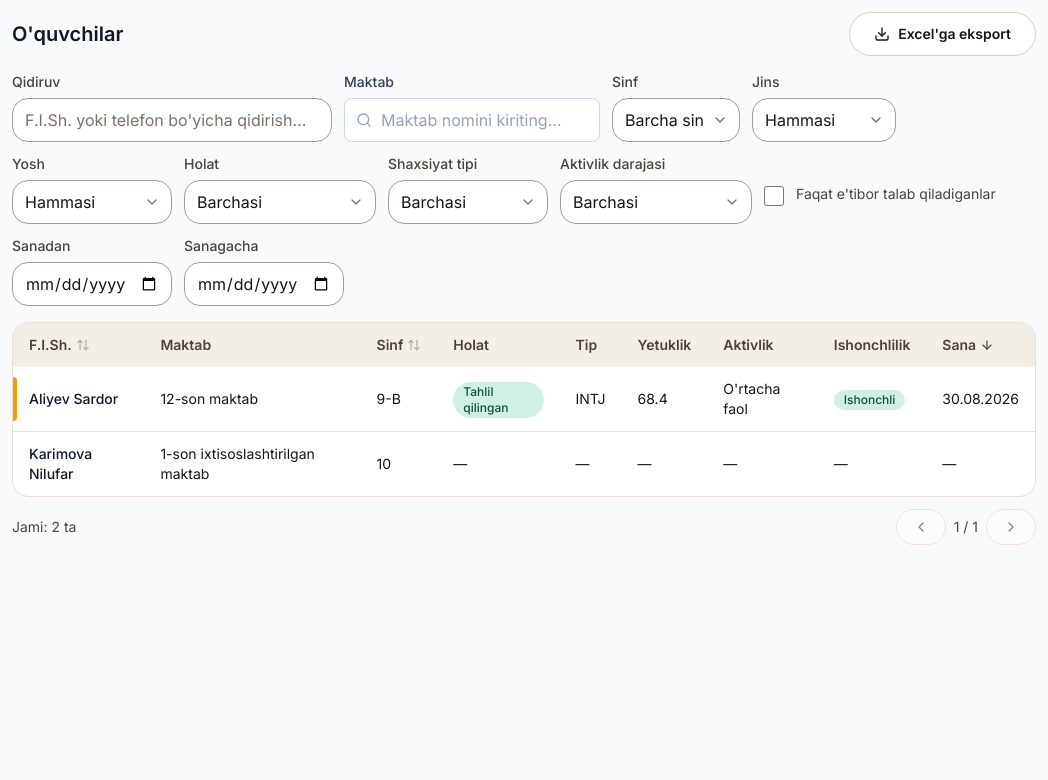
Test: StudentsPage › eksport endpointi hali yo'q bo'lsa (404) tushunarli xabar ko'rsatadi, ilova yiqilmaydi
The width and height of the screenshot is (1048, 780).
Expected: the text "Aliyev Sardor" is shown, [29, 389, 118, 409]
Click the button "Excel'ga eksport": (943,34) [849, 12, 1036, 56]
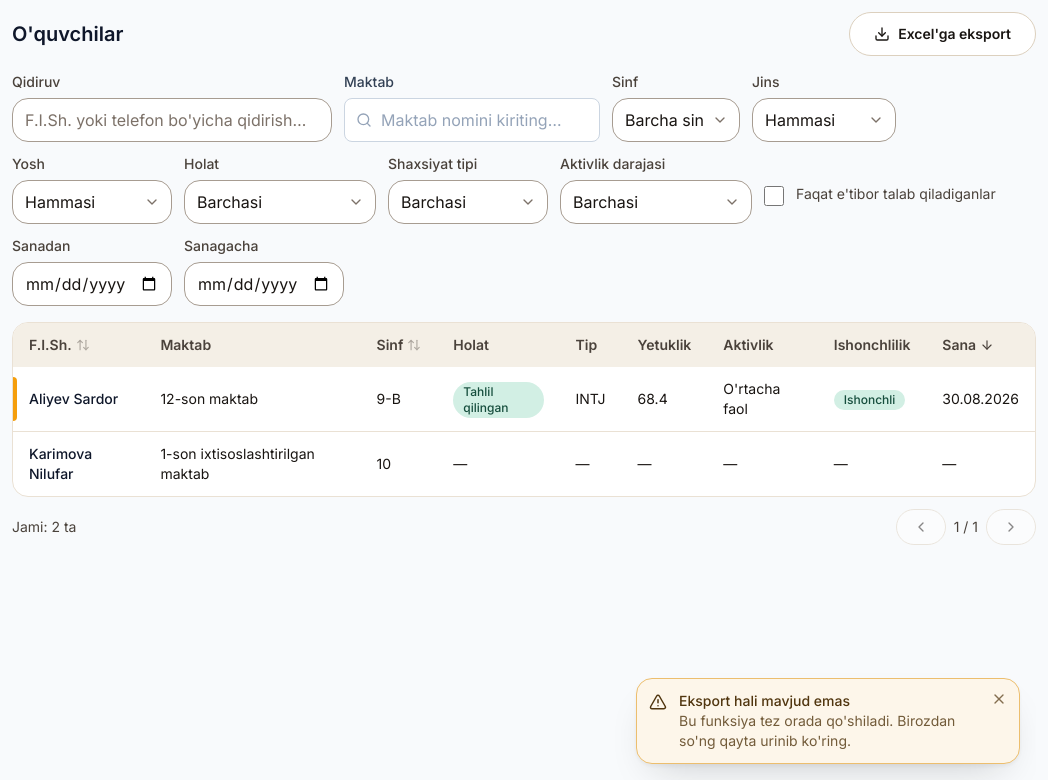
Expected: the text "Aliyev Sardor" is shown, [29, 389, 118, 409]
Expected: the text "Eksport hali mavjud emas" is shown, [679, 692, 850, 709]
